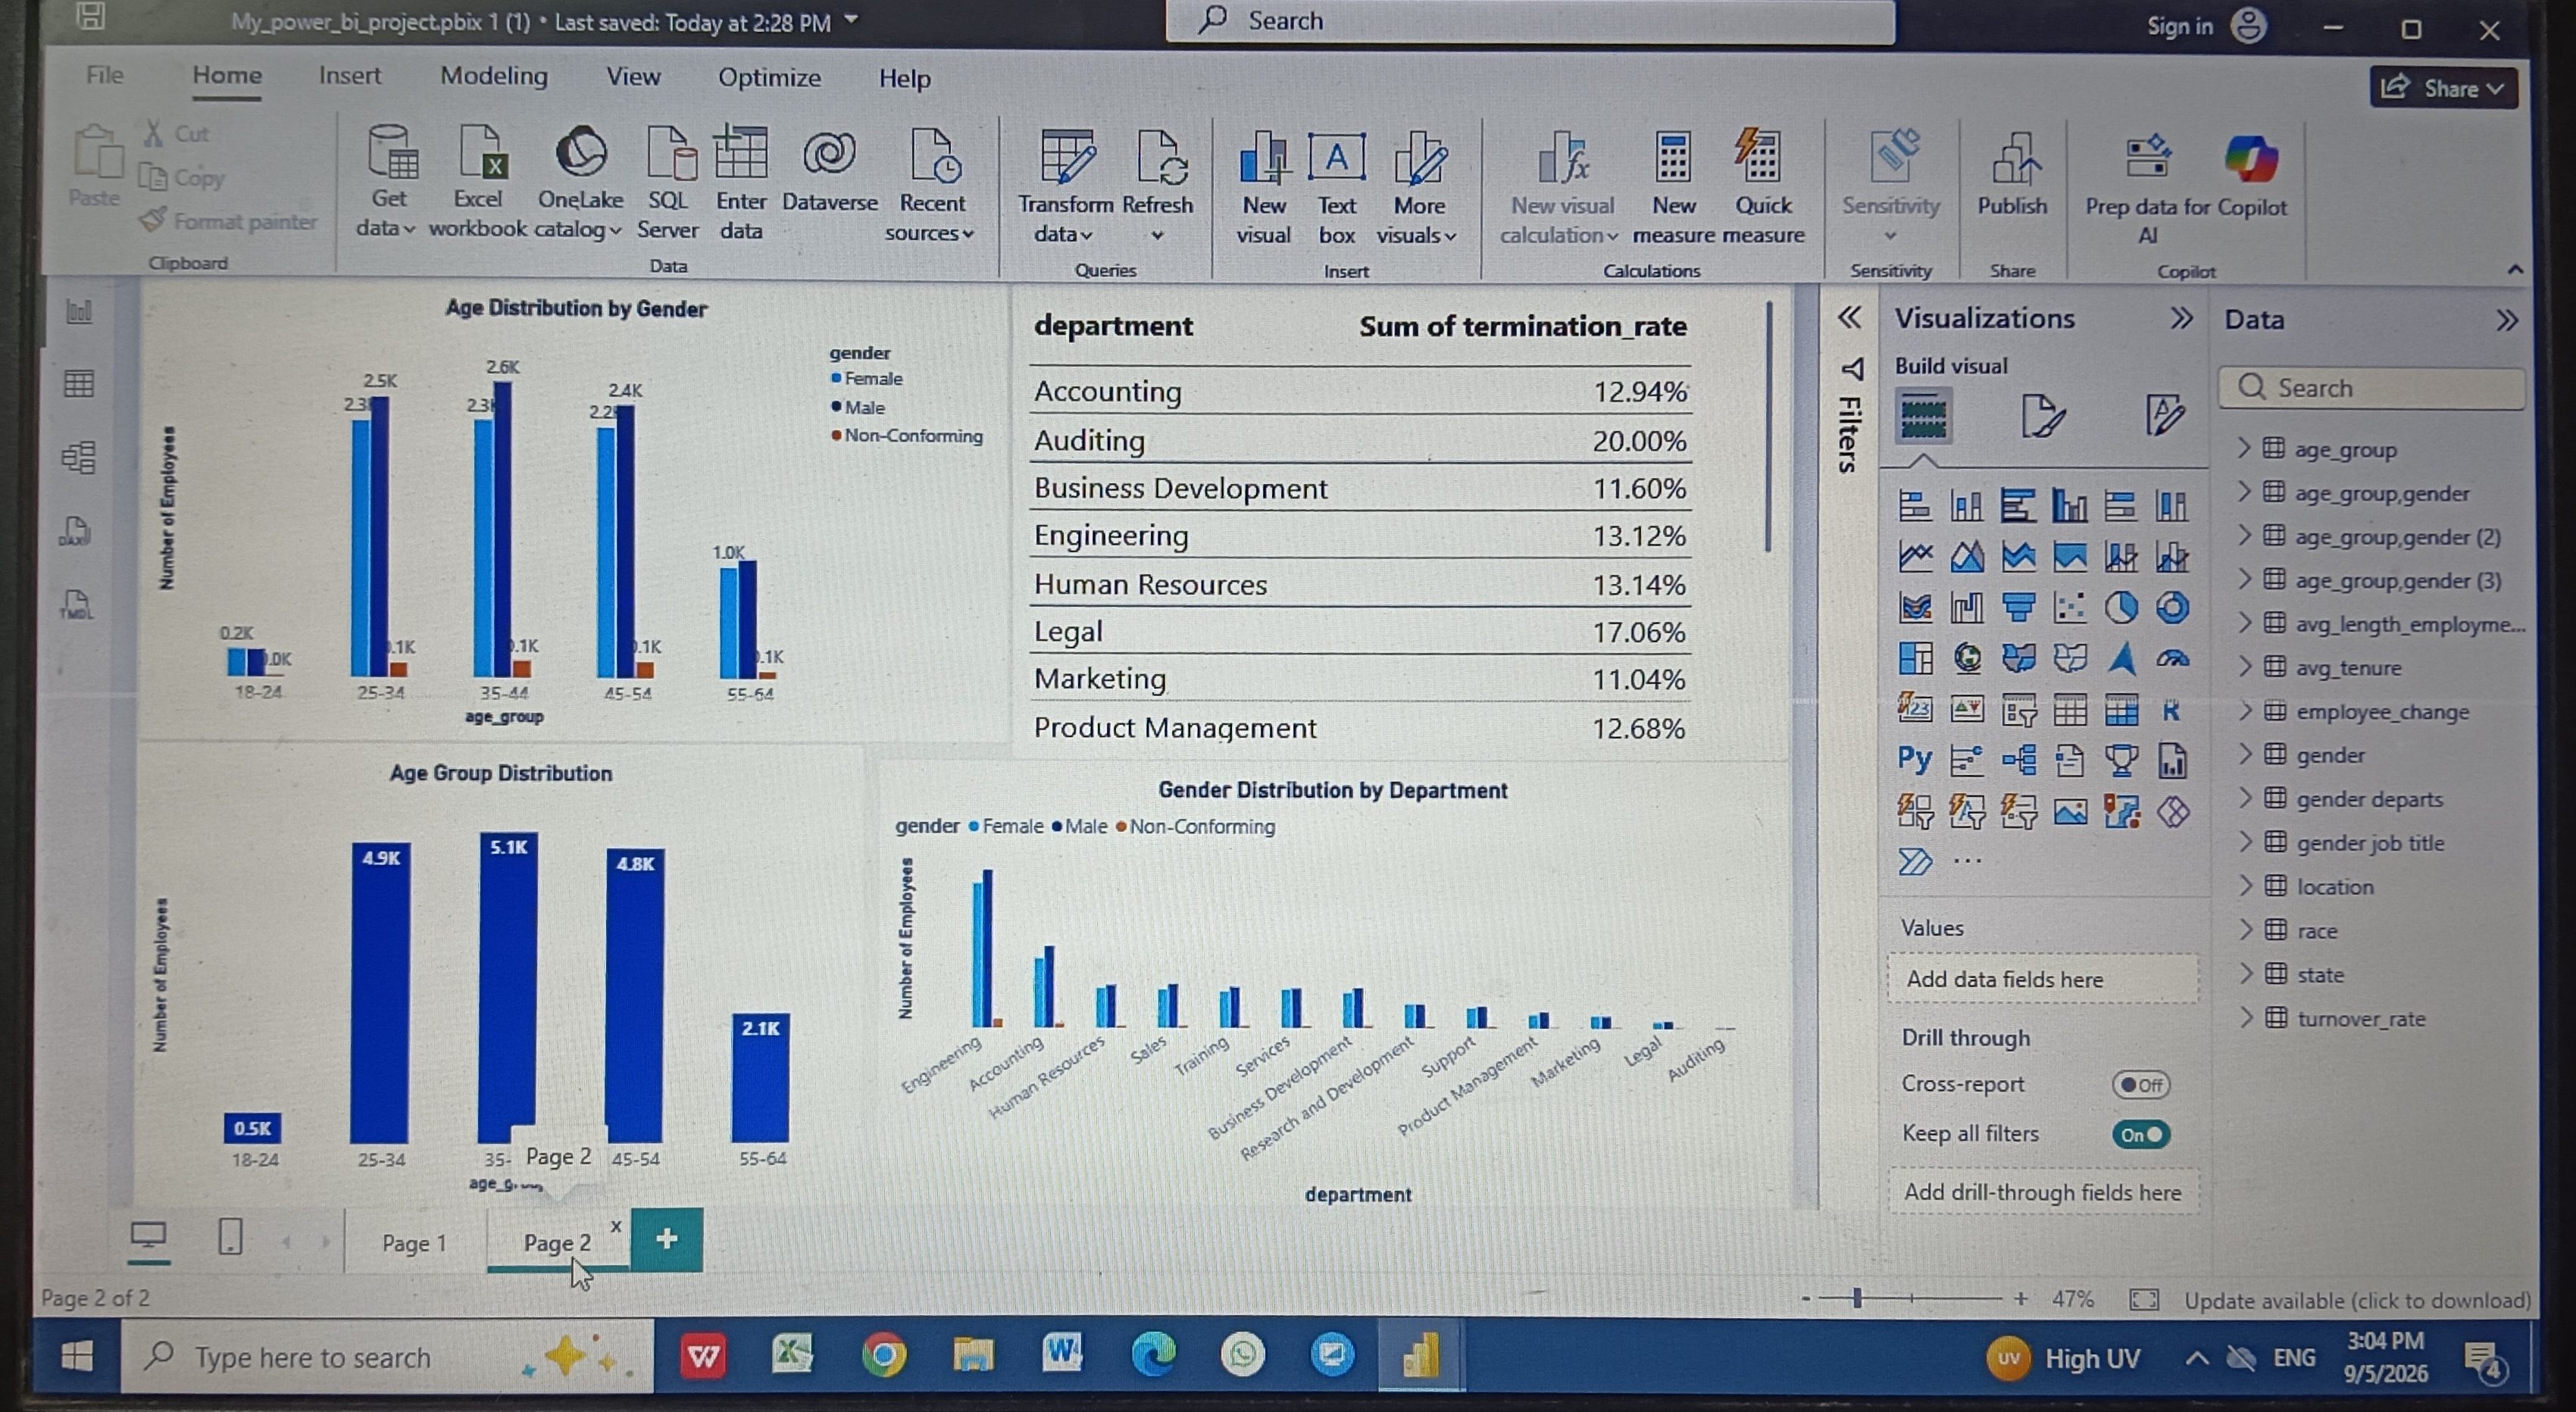

Layout of this report page (visuals, bound fields, positions):
{"tool":"powerbi","page":{"name":"Page 2","canvas":[1920,1080],"ordinal":1},"visuals":[{"type":"columnChart","title":"Age Group Distribution","fields":{"Category":["age_group.age_group"],"Y":["Sum(age_group.count)"]},"box":[0,540,837.8,540],"z":0},{"type":"clusteredColumnChart","title":"Age Distribution by Gender","fields":{"Category":["age_group,gender.age_group"],"Series":["age_group,gender.gender"],"Y":["Sum(age_group,gender.count)"]},"box":[2.2,0,1004.4,540],"z":1},{"type":"tableEx","fields":{"Values":["turnover_rate.department","Sum(turnover_rate.termination_rate)"]},"box":[1006.7,0,911.1,557.8],"z":2},{"type":"clusteredColumnChart","title":"Gender Distribution by Department","fields":{"Category":["gender departs.department"],"Series":["gender departs.gender"],"Y":["Sum(gender departs.count)"]},"box":[853.3,557.8,1066.7,522.2],"z":3}]}

Visuals, with their boxes on the page's 1920x1080 design canvas (x1, y1, x2, y2). These are canvas units, not pixel positions in the 2576x1412 screenshot, which may show the page scaled, cropped or inside an application window:
"Age Group Distribution" columnChart: [x1=0, y1=540, x2=838, y2=1080]
"Age Distribution by Gender" clusteredColumnChart: [x1=2, y1=0, x2=1007, y2=540]
tableEx - turnover_rate.department x Sum(turnover_rate.termination_rate): [x1=1007, y1=0, x2=1918, y2=558]
"Gender Distribution by Department" clusteredColumnChart: [x1=853, y1=558, x2=1920, y2=1080]
